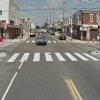Crosswalk: (2, 44, 94, 73)
